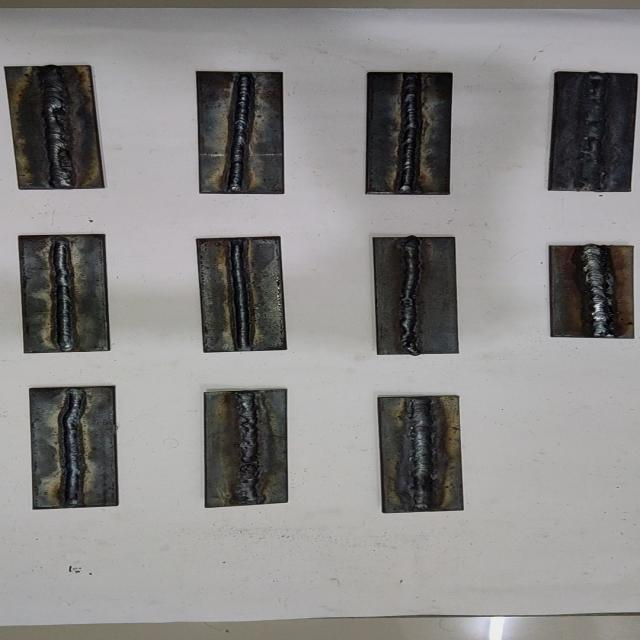Bad Weld: (580, 74, 610, 191), (236, 390, 260, 502)
Defect: (579, 131, 611, 157), (234, 459, 264, 481)
Good Weld: (40, 67, 70, 187), (394, 74, 423, 192), (227, 73, 255, 191), (62, 387, 88, 506), (399, 239, 424, 354), (582, 247, 612, 337), (408, 397, 431, 511), (229, 241, 250, 351), (54, 240, 74, 350)
